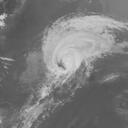cyclone: (41, 23, 81, 77)
